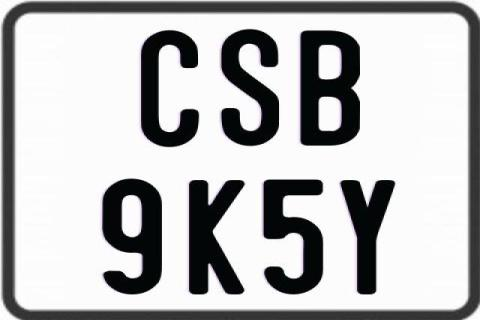0: (261, 178, 323, 296), (99, 178, 162, 294)
B: (301, 31, 363, 149)
C: (141, 28, 202, 145)
K: (186, 180, 244, 294)
S: (219, 28, 281, 146)
Y: (338, 180, 397, 294)
